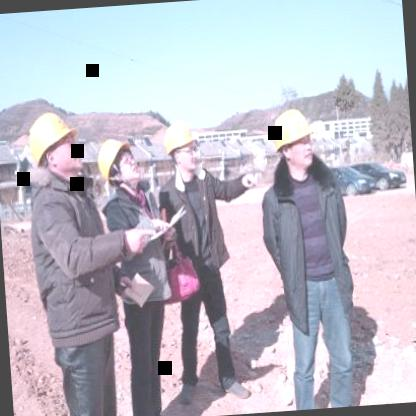helmet: (22, 104, 85, 186), (266, 104, 317, 176), (94, 134, 144, 194), (161, 117, 202, 176)
